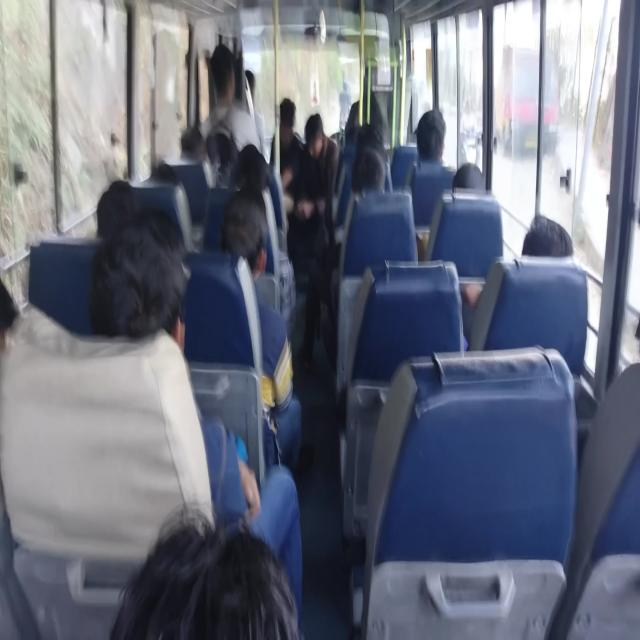person: (136, 504, 278, 640), (108, 220, 174, 347), (518, 202, 580, 312), (228, 211, 300, 301), (0, 247, 25, 428), (91, 170, 128, 240), (356, 155, 390, 212), (202, 59, 235, 107), (170, 111, 206, 154), (422, 105, 442, 166), (359, 121, 388, 161), (311, 115, 334, 157), (237, 134, 260, 176), (235, 69, 258, 108), (465, 168, 487, 205), (147, 156, 173, 187), (278, 104, 301, 137), (630, 301, 640, 366), (412, 120, 425, 146), (352, 119, 365, 131)
